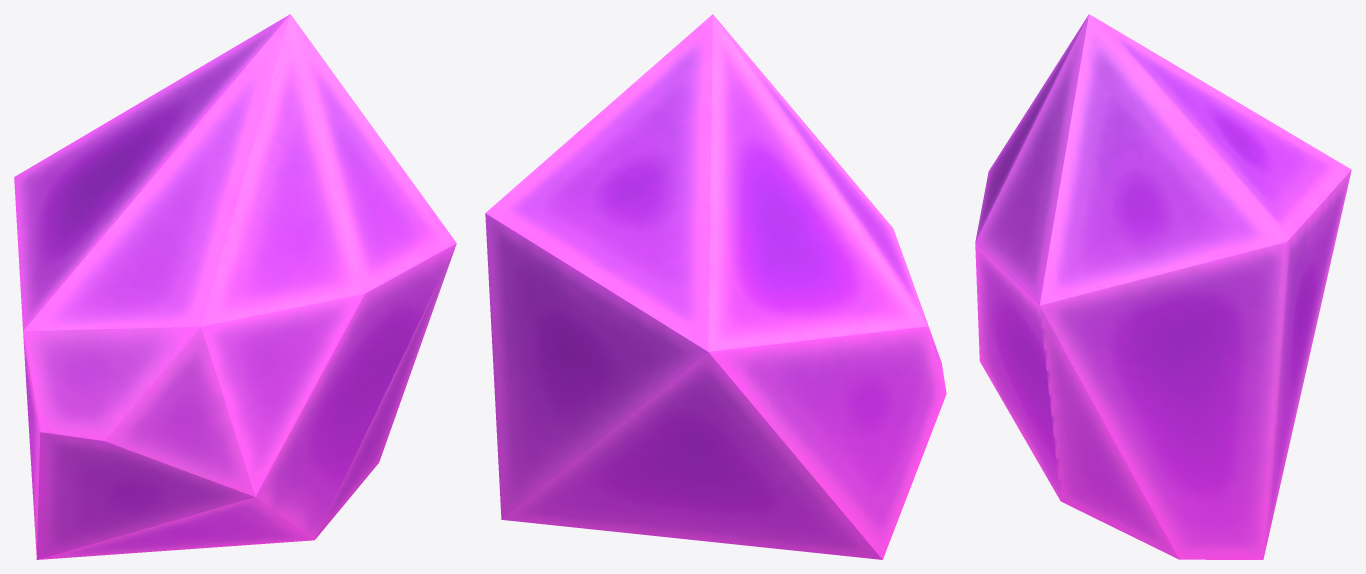
The model's file is crystal_piece_005.fbx.
The picture shows the model from 3 angles, left to right: view 1: azimuth 30°, elevation 25°; view 2: azimuth 150°, elevation 25°; view 3: azimuth 270°, elevation 25°; orthographic projection. The views are drawn at different scales.
Parts seen in each view (by area): view 1: crystal_piece_005; view 2: crystal_piece_005; view 3: crystal_piece_005.
Part boxes in pixels (bbox=[...]): crystal_piece_005: bbox=[14, 14, 456, 559]; crystal_piece_005: bbox=[485, 14, 946, 559]; crystal_piece_005: bbox=[975, 14, 1351, 559].
Bounding box in the file's own units: 0.4619 × 0.5778 × 0.408.
1 material, 1 textured.
